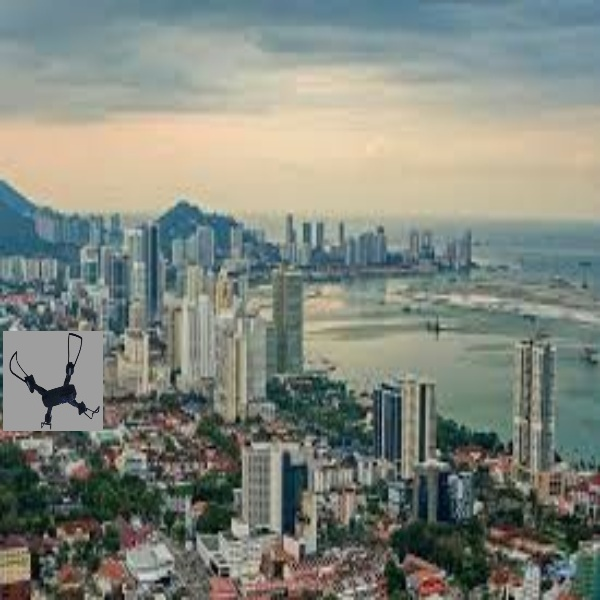drone: (6, 331, 106, 431)
